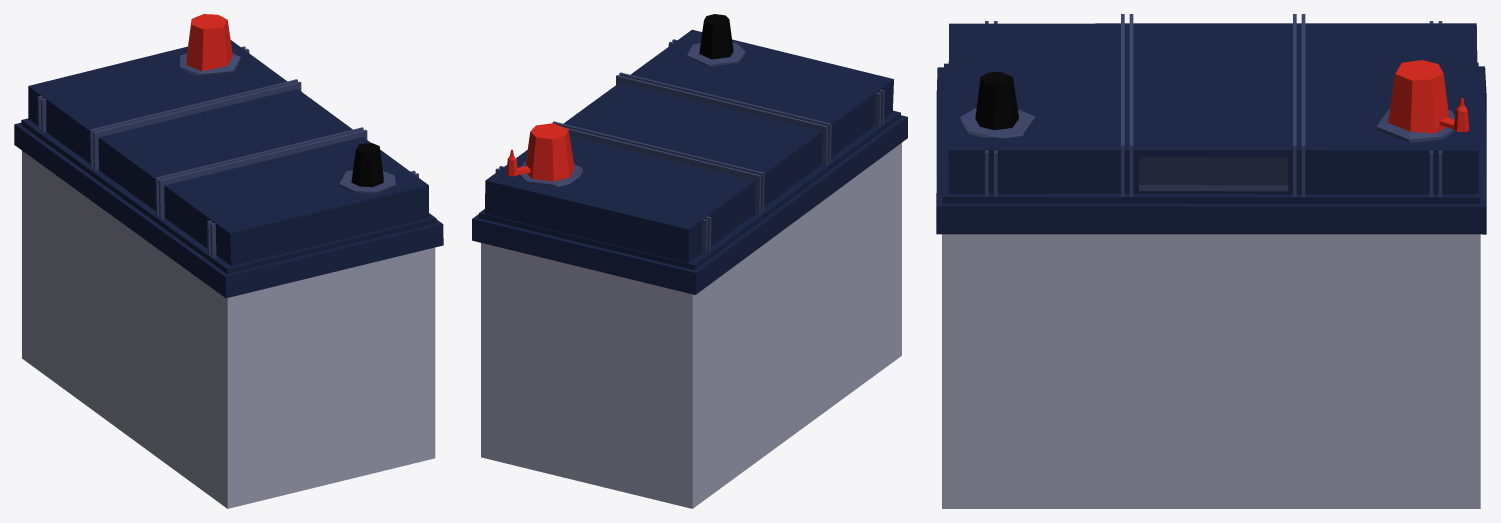
The model's file is maly_akumulator.fbx.
3 views of the same model, side by side, from view 1: azimuth 30°, elevation 25°; view 2: azimuth 150°, elevation 25°; view 3: azimuth 270°, elevation 25° (orthographic). The views are drawn at different scales.
Visible parts, largest first — view 1: Cube.017; view 2: Cube.017; view 3: Cube.017.
Part boxes in pixels (x1,y1,x2,y2): Cube.017: (14,14,443,508); Cube.017: (472,14,907,508); Cube.017: (936,14,1486,508).
Size of the model in its own units: 12.89 by 17.57 by 21.35.
